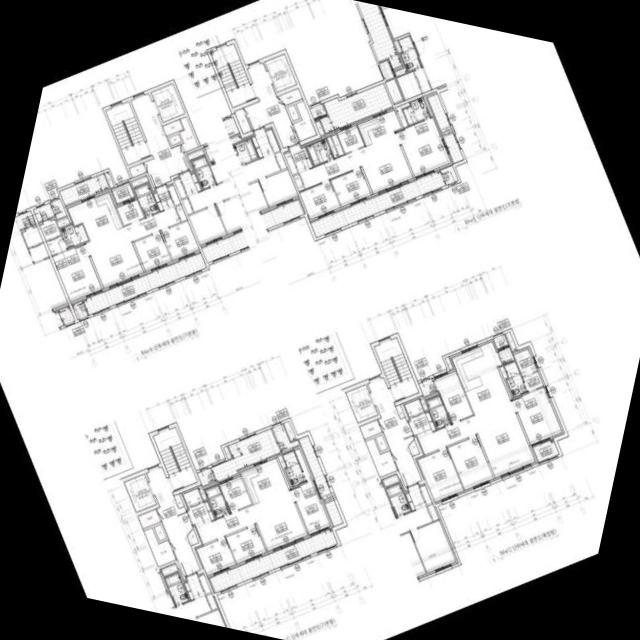background: (0, 0, 640, 640)
space_balconi: (310, 170, 445, 237), (209, 528, 337, 592), (83, 252, 206, 314), (299, 435, 343, 526), (211, 428, 280, 481), (323, 83, 392, 129), (428, 93, 464, 163), (59, 173, 109, 205), (533, 439, 559, 462), (111, 182, 134, 203), (33, 203, 54, 221)
space_bedroom: (291, 448, 330, 533), (396, 117, 450, 177), (52, 243, 102, 301), (512, 386, 562, 444), (417, 448, 463, 501), (448, 435, 493, 489), (434, 371, 473, 422), (300, 180, 340, 219), (331, 168, 371, 206), (161, 220, 199, 260), (196, 537, 236, 575), (226, 525, 266, 563), (134, 232, 171, 271), (219, 476, 252, 512)
space_dressroom: (514, 348, 543, 391), (39, 219, 67, 255)
space_elevator: (151, 83, 184, 121), (124, 474, 156, 512), (346, 384, 377, 422), (265, 54, 296, 91)
space_elevator_hall: (146, 466, 200, 575), (368, 377, 421, 486), (130, 93, 190, 187), (243, 63, 298, 147)
space_front: (408, 410, 437, 438), (187, 500, 215, 527), (153, 184, 180, 211), (289, 144, 313, 173)
space_kitchen: (452, 342, 510, 414), (68, 193, 122, 241), (240, 458, 289, 504), (358, 110, 401, 146)
space_living_room: (418, 401, 535, 477), (86, 205, 187, 288), (299, 134, 412, 193), (196, 490, 307, 550)
space_other: (365, 438, 397, 477), (144, 528, 176, 566), (293, 101, 317, 141), (337, 125, 364, 153), (117, 199, 144, 225), (180, 116, 198, 151), (234, 108, 251, 133), (138, 509, 160, 528), (360, 419, 382, 438), (499, 366, 512, 398), (278, 455, 291, 487), (278, 88, 302, 105), (395, 102, 410, 127), (183, 488, 202, 506), (50, 198, 66, 219), (162, 119, 183, 135), (405, 399, 423, 417), (441, 165, 458, 184), (197, 468, 215, 485), (419, 378, 436, 396), (284, 152, 297, 174), (331, 134, 344, 155), (499, 347, 514, 363), (320, 116, 334, 133), (129, 163, 146, 177), (327, 136, 338, 157), (284, 421, 295, 440), (506, 332, 517, 350), (154, 524, 166, 540), (287, 104, 299, 120), (131, 176, 148, 187), (187, 528, 198, 545), (375, 435, 387, 450), (293, 174, 304, 190), (408, 439, 419, 455), (104, 171, 114, 187), (395, 404, 405, 418), (169, 134, 181, 145), (315, 121, 324, 135), (57, 218, 70, 227), (174, 494, 183, 507), (198, 486, 206, 499), (420, 397, 428, 410), (445, 357, 453, 369), (224, 446, 231, 458)
space_outdoor_room: (272, 423, 299, 451), (72, 301, 88, 319), (310, 103, 326, 118), (493, 334, 508, 348)
space_staircase: (211, 43, 256, 107), (374, 337, 418, 401), (106, 101, 150, 165), (153, 427, 197, 490)
space_toilet: (134, 182, 159, 216), (504, 361, 527, 396), (426, 395, 450, 428), (283, 451, 305, 486), (205, 485, 229, 517), (403, 97, 430, 124), (306, 138, 333, 165), (60, 224, 88, 248)
